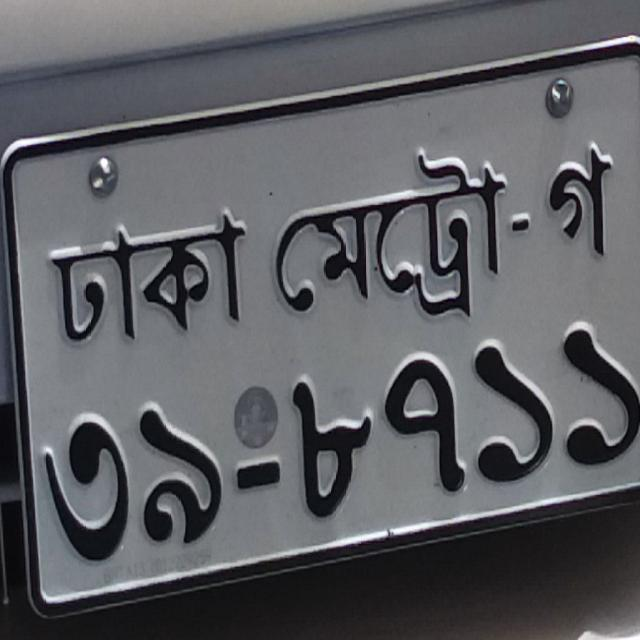cng: (273, 146, 509, 319)
numberplate: (1, 27, 638, 618)
